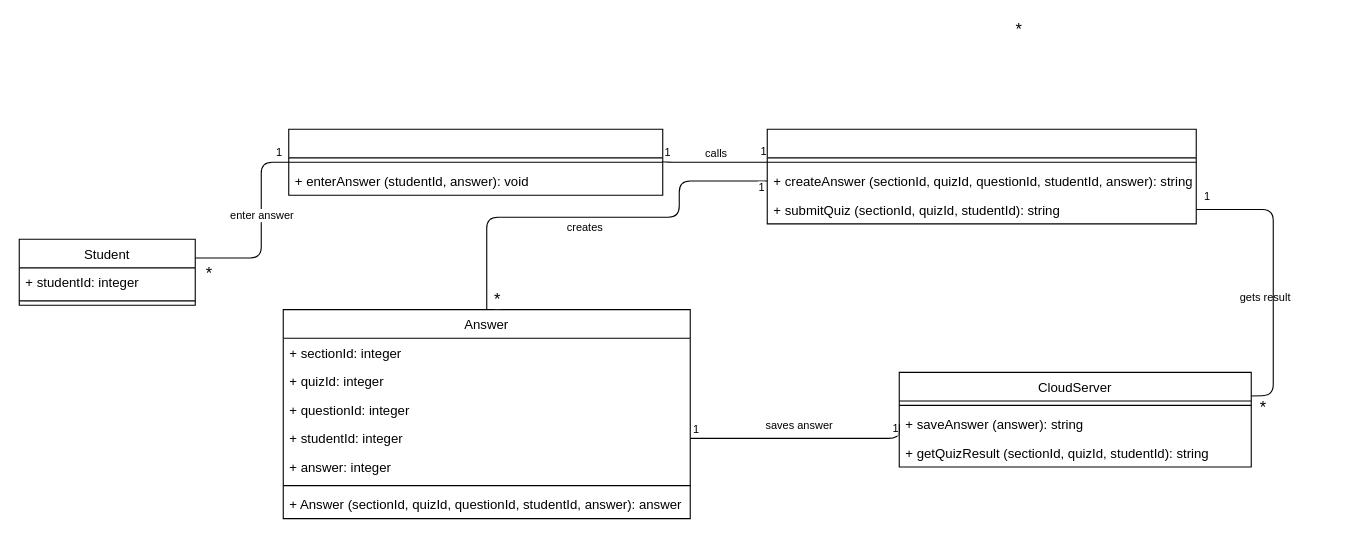
Image size: 1345x540. Some labels were removed from this diagram. The shapes that lost their labels are listed below. From the top down, each one's box as (x1, y1, x2, y2) in pixels, then its label:
(288, 128, 663, 195): UI
(766, 128, 1196, 224): SubmitQuizHandler
